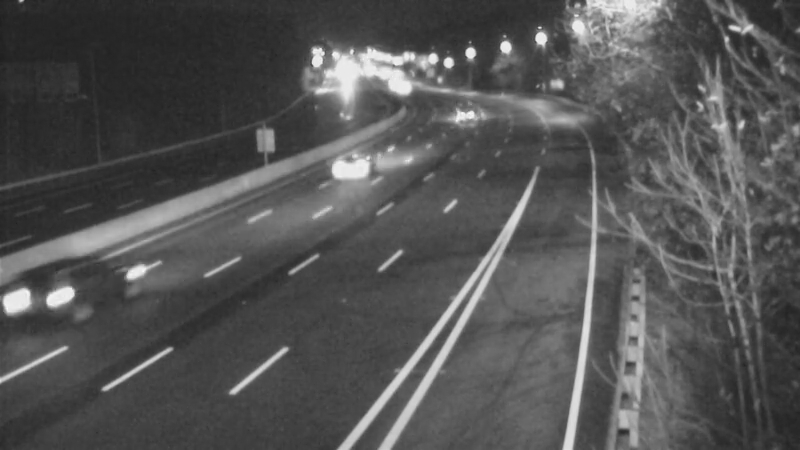vehicle: (317, 121, 397, 201), (3, 256, 83, 336), (379, 63, 429, 113), (437, 84, 487, 134)
